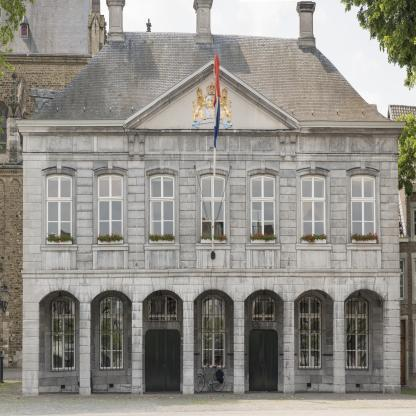Building Outline: (14, 0, 408, 397)
Cornice: (123, 63, 302, 133)
Deco: (192, 80, 233, 130), (279, 136, 286, 162), (128, 135, 135, 161), (138, 135, 145, 161), (290, 136, 296, 162)
Door: (38, 290, 80, 396), (90, 289, 132, 395), (193, 289, 234, 395), (344, 289, 385, 394), (143, 289, 183, 395), (244, 289, 284, 394), (294, 289, 334, 394), (145, 330, 180, 392), (249, 330, 278, 392)
Facade: (23, 120, 400, 396)
Floor Slab: (23, 269, 400, 277)
Ground Floor: (23, 277, 400, 395)
Pillar: (383, 300, 401, 395), (22, 303, 39, 396), (79, 302, 91, 396), (333, 301, 345, 394), (183, 302, 194, 395), (132, 302, 143, 395), (283, 302, 294, 394), (234, 302, 245, 394)
Roof: (28, 31, 394, 121)
Sill: (92, 244, 129, 251), (144, 243, 181, 250), (195, 243, 232, 250), (245, 243, 281, 250), (40, 245, 78, 251), (295, 244, 332, 250), (346, 244, 382, 250)
Top Floor: (23, 127, 400, 277)
Window: (50, 296, 76, 372), (98, 295, 124, 371), (343, 296, 369, 371), (46, 173, 73, 245), (97, 173, 124, 244), (149, 173, 176, 244), (350, 174, 377, 244), (300, 174, 327, 244), (201, 294, 226, 369), (200, 173, 226, 244), (298, 294, 322, 370), (250, 174, 276, 244), (147, 295, 178, 322), (251, 295, 275, 322)
dont: (193, 361, 226, 392), (213, 53, 221, 177)
